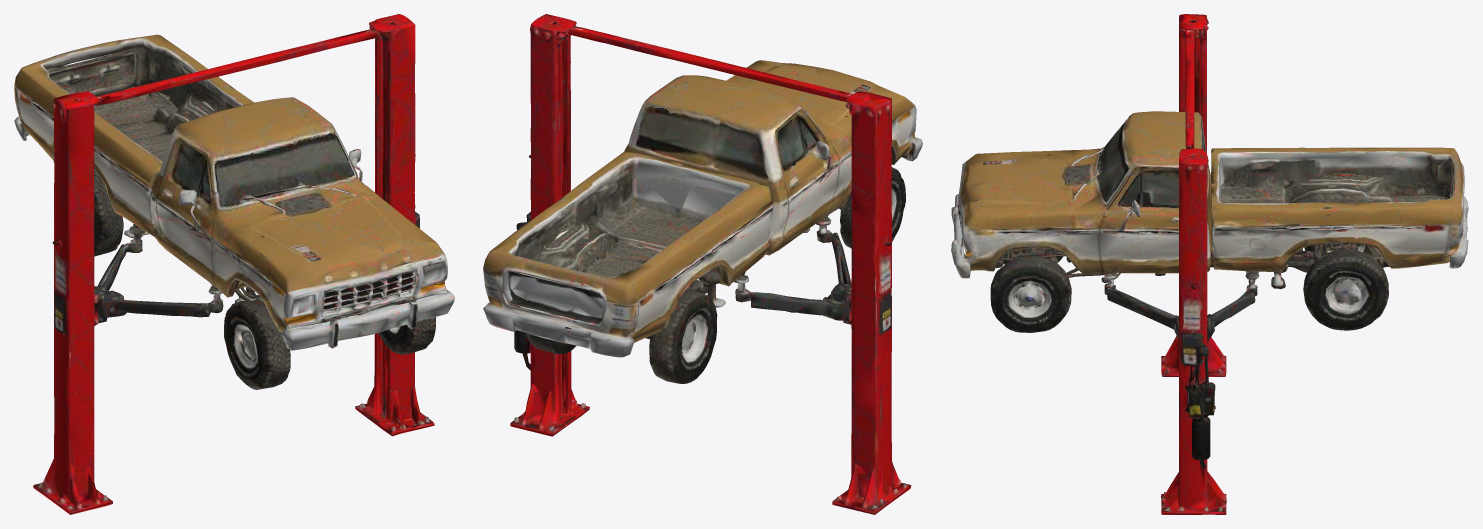
File: pickup.glb
3 views of the same model, side by side, from view 1: azimuth 30°, elevation 25°; view 2: azimuth 150°, elevation 25°; view 3: azimuth 270°, elevation 25° (orthographic). The views are drawn at different scales.
Bounding box in the file's own units: 1.4 × 1.41 × 1.89.
Materials: 1 (1 with a texture image).
